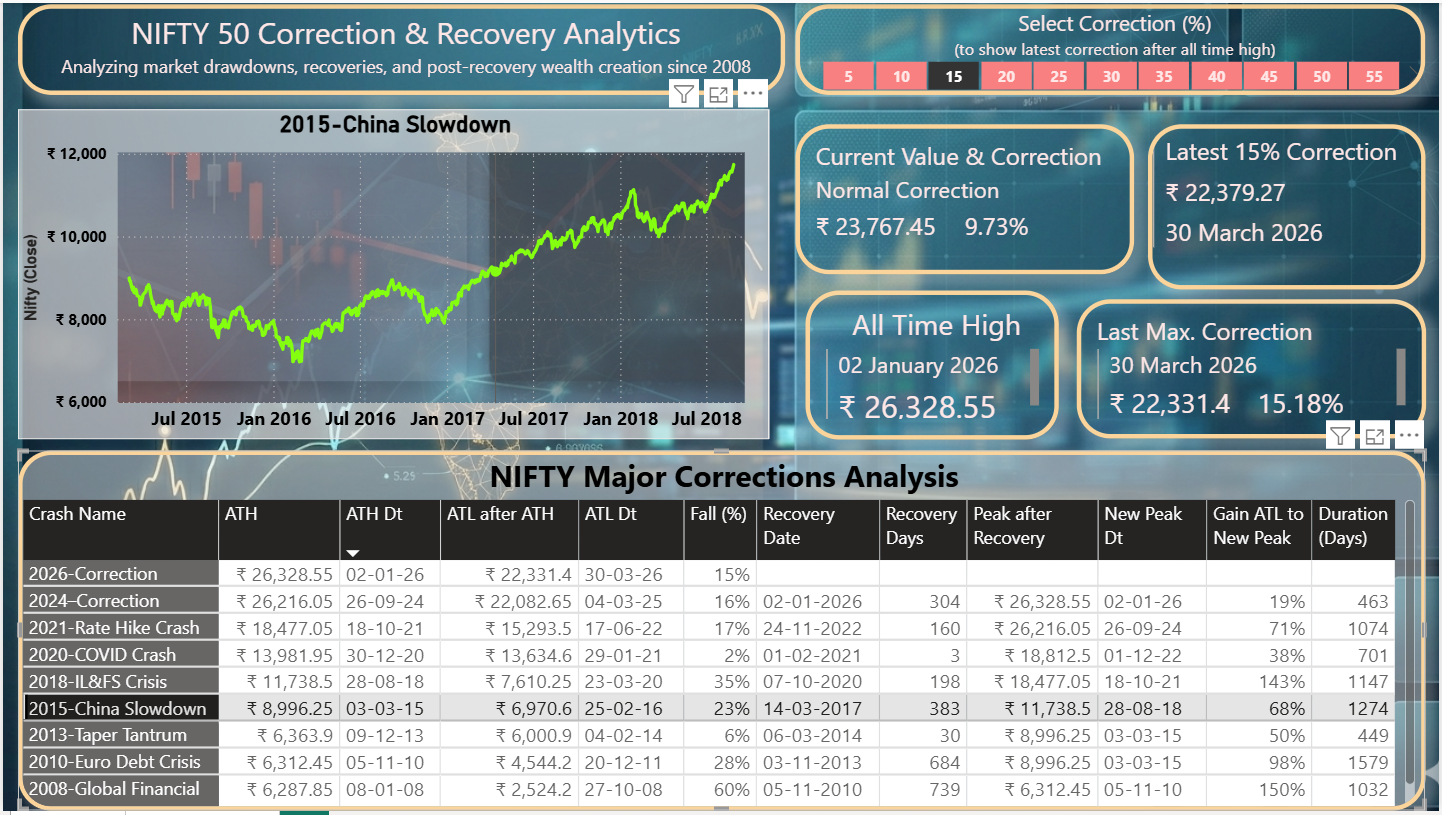

This screenshot's page, from the dashboard's own definition file:
{"tool":"powerbi","page":{"name":"NIFTY_50 ","canvas":[1280,720],"ordinal":0},"visuals":[{"type":"multiRowCard","title":"All Time High","fields":{"Values":["Nifty.All Time High","Nifty.All Time High Dt"]},"box":[715.2,255.5,225.8,132.5],"z":0},{"type":"multiRowCard","title":"Last Max. Correction","fields":{"Values":["Nifty.Correction","Nifty.Correction Dt","Nifty.correction (%)"]},"box":[955.8,263.6,310.9,124.4],"z":1000},{"type":"multiRowCard","title":"Current Value & Correction","fields":{"Values":["Nifty.Current Value","Nifty.Current Correction","Nifty.Play Book"]},"box":[705.7,108.2,301.5,133.8],"z":2000},{"type":"slicer","title":"Select Correction (%)","fields":{"Values":["Fall From ATH.Fall Percentage"]},"box":[705.8,1.2,561,80.8],"z":3000},{"type":"multiRowCard","fields":{"Values":["Fall From ATH.Header","Nifty.Fall Value","Nifty.Date of Fall"]},"box":[1019.4,108.2,247.4,147.4],"z":4000},{"type":"pivotTable","title":"NIFTY Major Corrections Analysis","fields":{"Rows":["Crash History.Crash Name"],"Values":["Nifty.ATH","Nifty.ATH Dt","Nifty.ATL after ATH","Nifty.ATL Dt","Nifty.Max fall","Nifty.Recovery Date","Nifty.Recovery Days","Nifty.Peak after Recovery","Nifty.New Peak Dt","Nifty.Gain ATL to New Peak","Nifty.Duration"]},"box":[13.5,398.8,1253.2,320.4],"z":5000},{"type":"card","title":"NIFTY 50 Correction & Recovery Analytics","fields":{"Values":["Crash History.Title"]},"box":[13.4,1.3,683.2,80.7],"z":6000},{"type":"lineChart","title":"Nifty (Close) by Date","fields":{"Y":["Sum(Nifty.Close)"],"Category":["Nifty.Date"]},"box":[13.5,94.6,669.2,293.4],"z":7000}]}

Visuals, with their boxes in screenshot pixels (x1, y1, x2, y2), scaled from the page's 1280x720 canvas onto the 1442x815 screenshot:
"All Time High" multiRowCard: [left=806, top=289, right=1060, bottom=439]
"Last Max. Correction" multiRowCard: [left=1077, top=298, right=1427, bottom=439]
"Current Value & Correction" multiRowCard: [left=795, top=122, right=1135, bottom=274]
"Select Correction (%)" slicer: [left=795, top=1, right=1427, bottom=93]
multiRowCard - Fall From ATH.Header x Nifty.Fall Value: [left=1148, top=122, right=1427, bottom=289]
"NIFTY Major Corrections Analysis" pivotTable: [left=15, top=451, right=1427, bottom=814]
"NIFTY 50 Correction & Recovery Analytics" card: [left=15, top=1, right=785, bottom=93]
"Nifty (Close) by Date" lineChart: [left=15, top=107, right=769, bottom=439]
